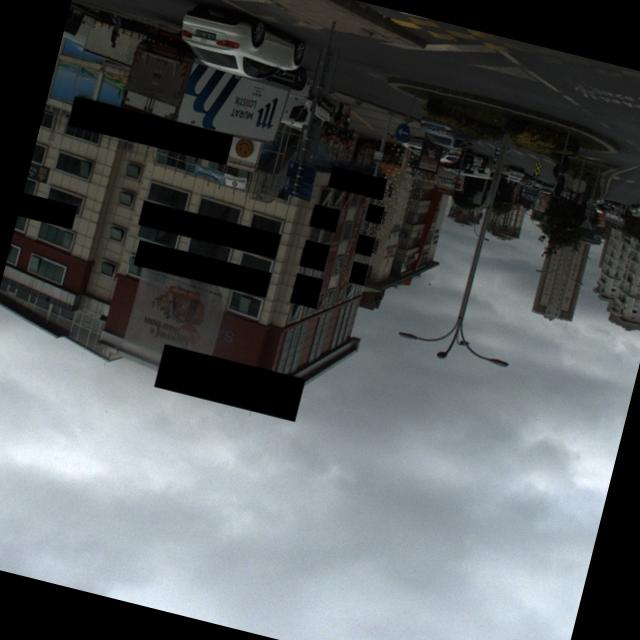SignStore: (69, 94, 231, 163), (139, 199, 278, 257), (156, 360, 304, 413), (135, 238, 269, 295), (18, 191, 74, 228), (326, 170, 386, 189), (288, 277, 321, 301), (298, 243, 329, 264), (308, 207, 339, 225), (26, 160, 49, 182), (347, 263, 367, 281), (353, 236, 374, 250), (363, 205, 383, 219)
